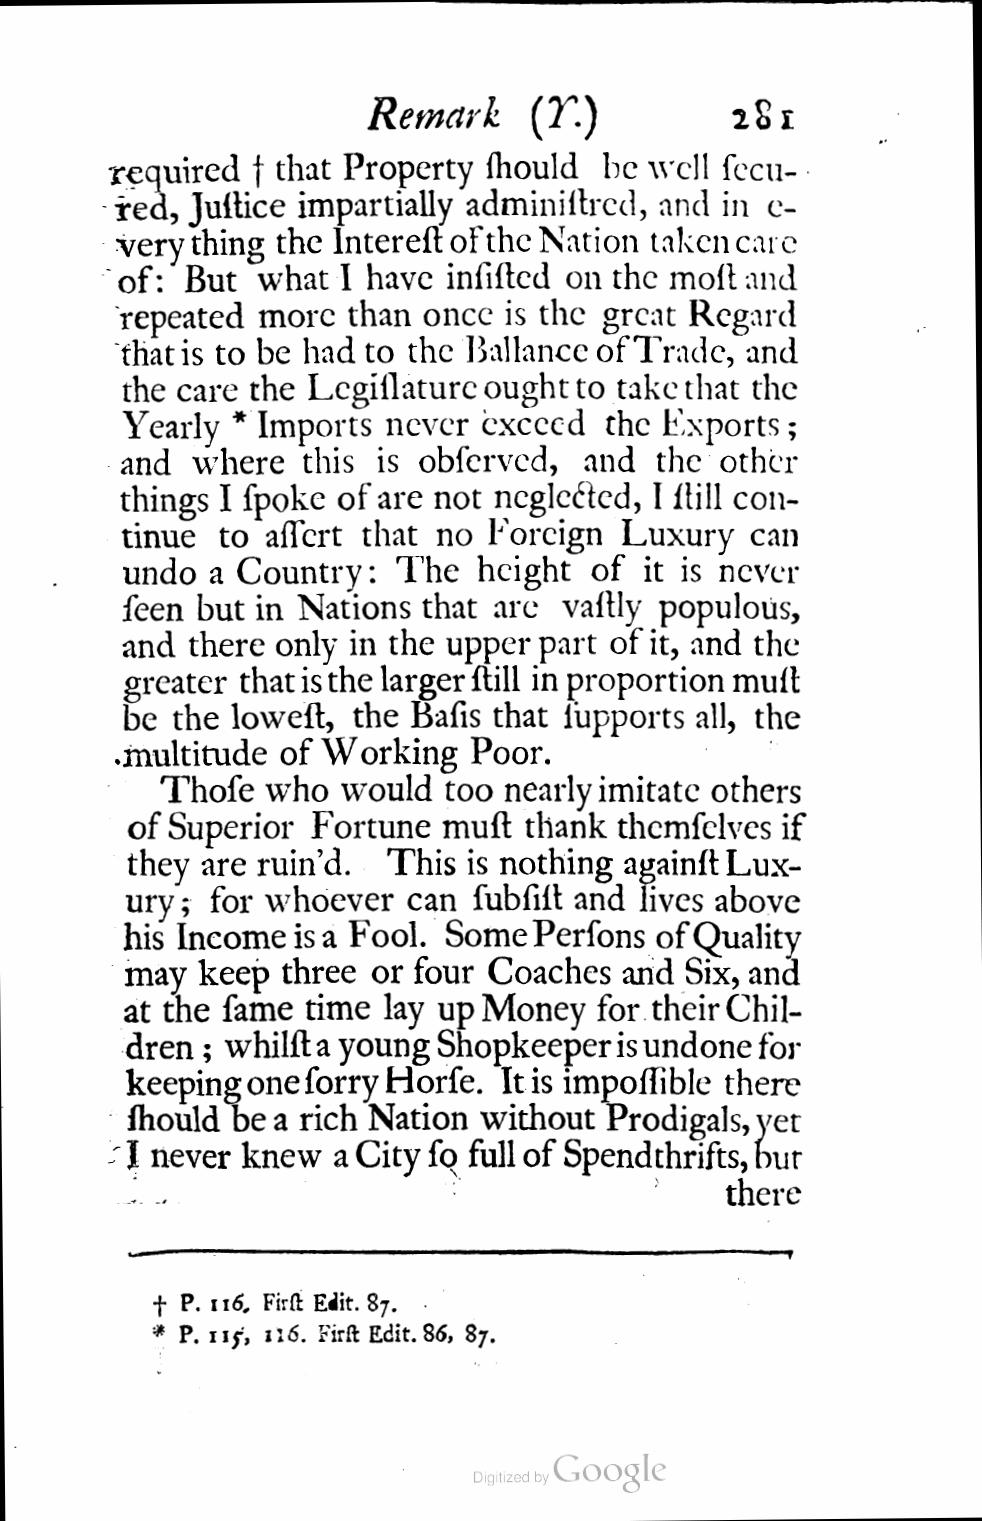bottom_p: (104, 149, 806, 776)
catchword: (712, 1182, 808, 1212)
footnotes: (146, 1280, 498, 1354)
header: (356, 84, 610, 144)
page_num: (728, 90, 804, 144)
top_p: (108, 774, 810, 1180)
